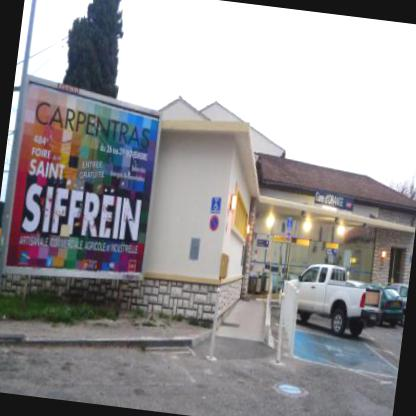truck: (286, 253, 377, 336)
